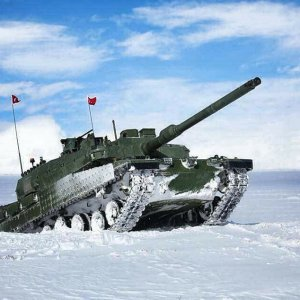Battle Tank: (1, 109, 259, 231)
